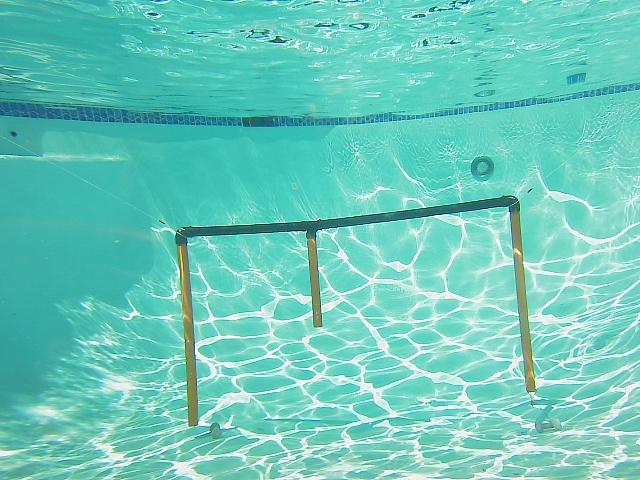Gate: (507, 205, 538, 396), (174, 241, 201, 430), (305, 232, 324, 330)
